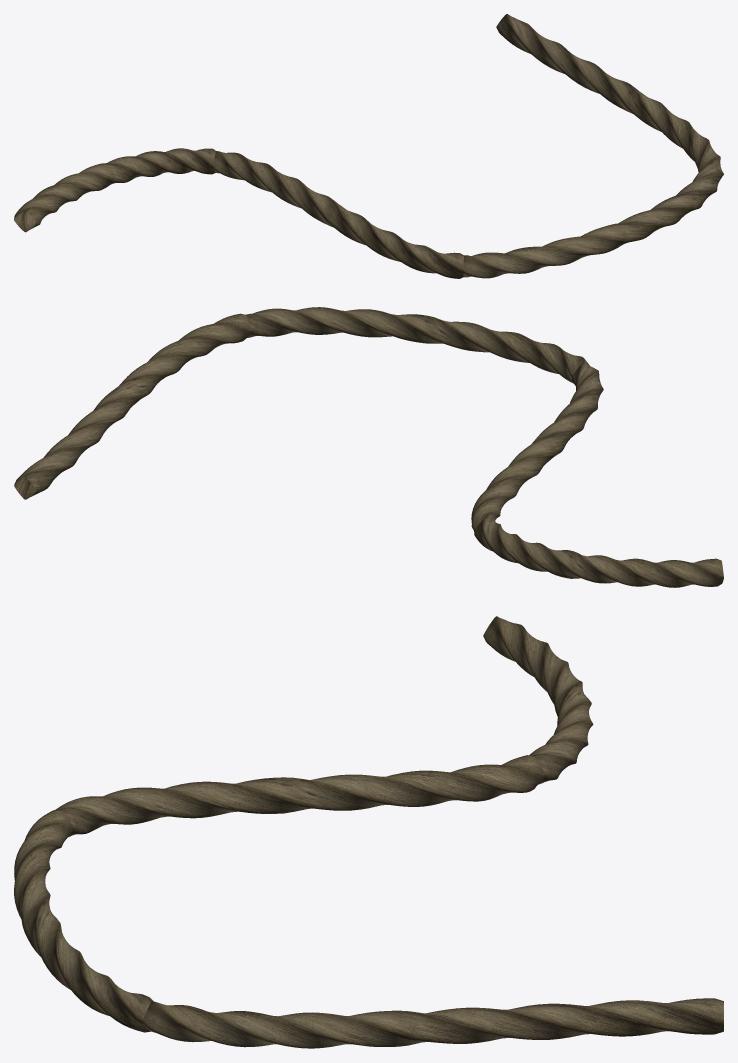
File: SM_Rope_Splines_5.fbx
3 renders of one model, top to bottom at view 1: azimuth 30°, elevation 25°; view 2: azimuth 150°, elevation 25°; view 3: azimuth 270°, elevation 25°, orthographic. The views are drawn at different scales.
Visible parts, largest first — view 1: SM_Rope_Splines_5_LOD0; view 2: SM_Rope_Splines_5_LOD0; view 3: SM_Rope_Splines_5_LOD0.
Part boxes in pixels (x1=…): SM_Rope_Splines_5_LOD0: x1=14, y1=14, x2=723, y2=278; SM_Rope_Splines_5_LOD0: x1=14, y1=307, x2=723, y2=587; SM_Rope_Splines_5_LOD0: x1=14, y1=616, x2=723, y2=1048.
Size of the model in its own units: 96.81 by 70.67 by 3.7.
